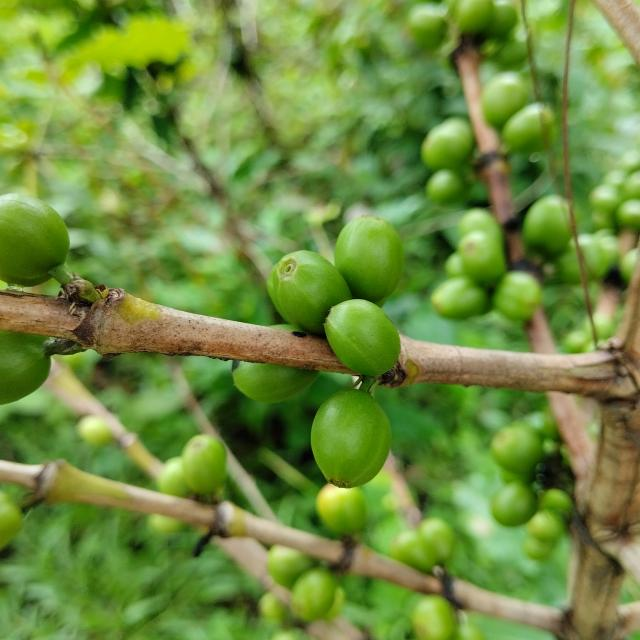green: (311, 389, 391, 489), (267, 250, 352, 334), (0, 193, 69, 286), (335, 215, 405, 303), (324, 299, 401, 377), (0, 331, 50, 405), (232, 361, 319, 403), (269, 324, 305, 335)
